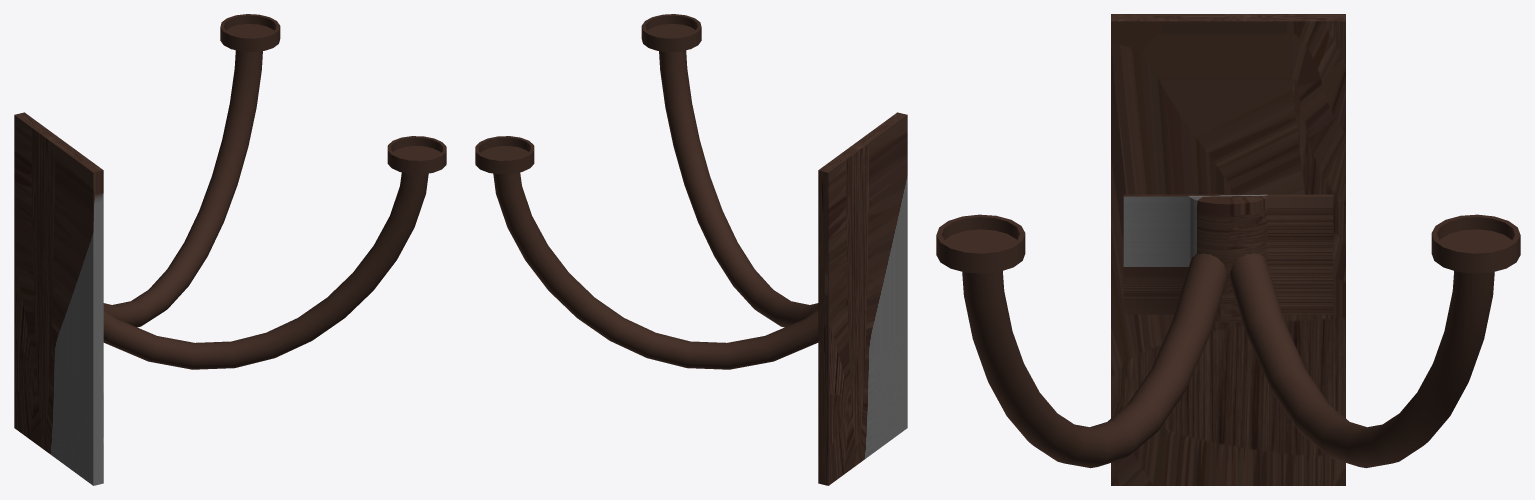
File: MountedWallLight.obj
The picture shows the model from 3 angles, left to right: view 1: azimuth 30°, elevation 25°; view 2: azimuth 150°, elevation 25°; view 3: azimuth 270°, elevation 25°; orthographic projection. The views are drawn at different scales.
Parts seen in each view (by area): view 1: Cube; view 2: Cube; view 3: Cube.
Boxes of the visible parts, bbox=[...] form: Cube: bbox=[14, 14, 446, 485]; Cube: bbox=[475, 14, 907, 485]; Cube: bbox=[936, 14, 1520, 485].
Size of the model in its own units: 1.03 by 1.01 by 1.15.
